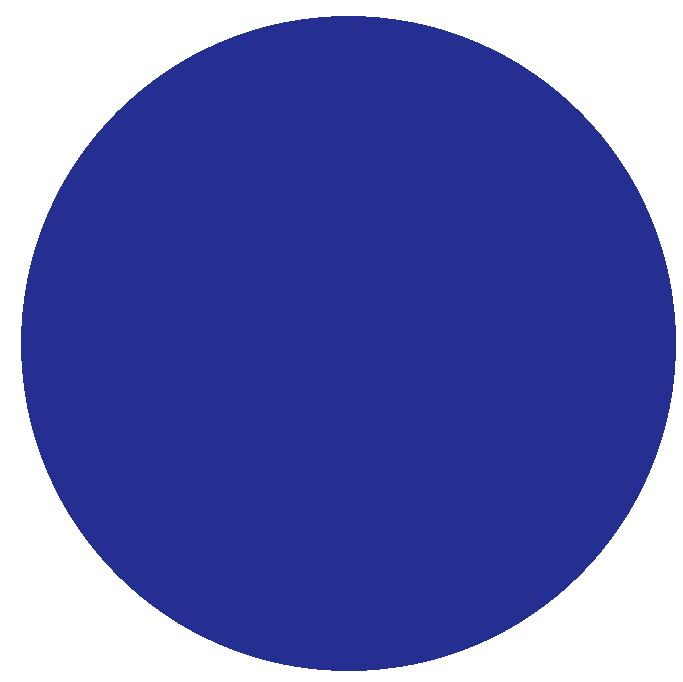blue_circle: (6, 2, 683, 682)
